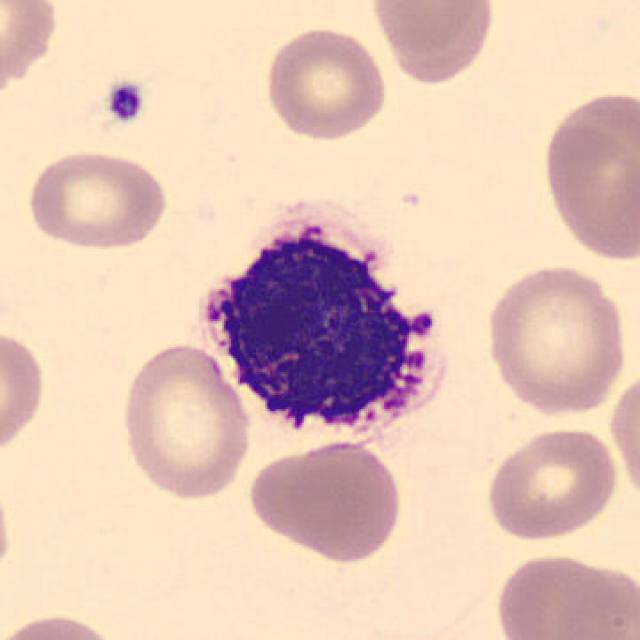Basophil: (181, 192, 466, 464)
Platelets: (101, 78, 148, 125)
RBC: (480, 259, 631, 418), (116, 338, 254, 502), (244, 438, 407, 562), (537, 85, 638, 266), (482, 423, 622, 543), (23, 144, 171, 254), (260, 21, 391, 145), (491, 550, 636, 640), (366, 0, 498, 92), (0, 324, 50, 462), (0, 0, 62, 97), (606, 365, 640, 506), (0, 608, 128, 640), (0, 469, 14, 594)
